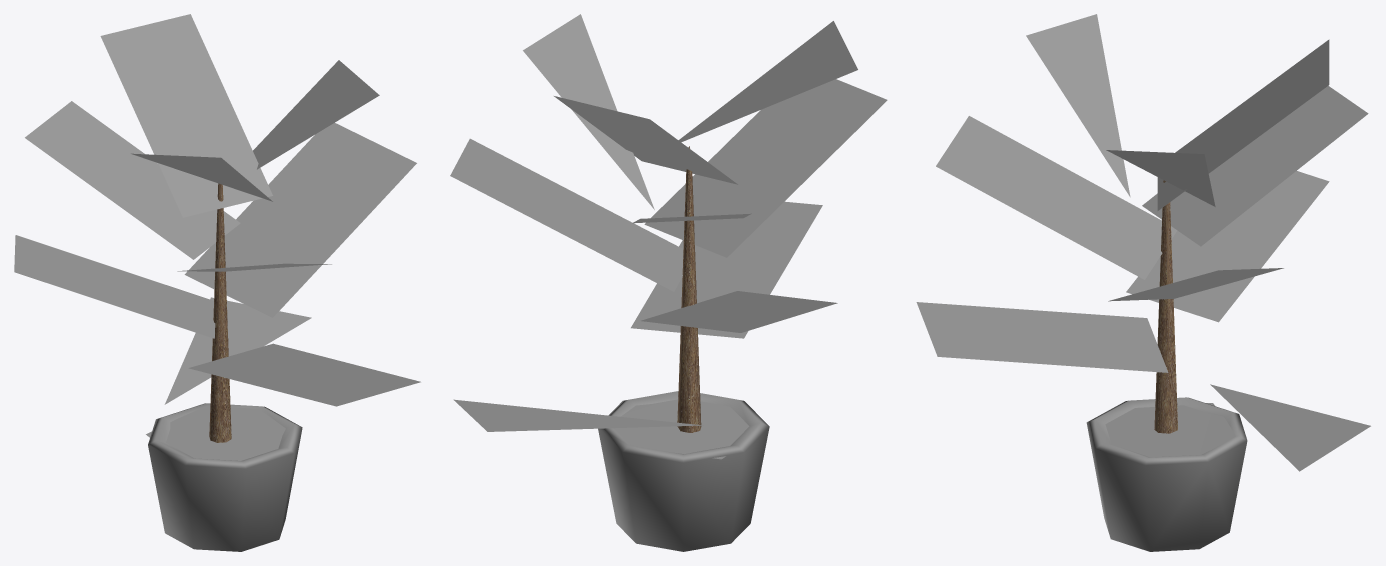
File: Pictum_leaf_lod2.fbx
3 views of the same model, side by side, from view 1: azimuth 30°, elevation 25°; view 2: azimuth 150°, elevation 25°; view 3: azimuth 270°, elevation 25° (orthographic). The views are drawn at different scales.
Parts seen in each view (by area): view 1: Pictum_leaf_lod2; view 2: Pictum_leaf_lod2; view 3: Pictum_leaf_lod2.
Part boxes in pixels (<box>): Pictum_leaf_lod2: <box>14,14,420,551</box>; Pictum_leaf_lod2: <box>450,14,887,551</box>; Pictum_leaf_lod2: <box>916,14,1370,551</box>.
Size of the model in its own units: 56.32 by 64.95 by 57.23.
3 materials, 1 textured.
